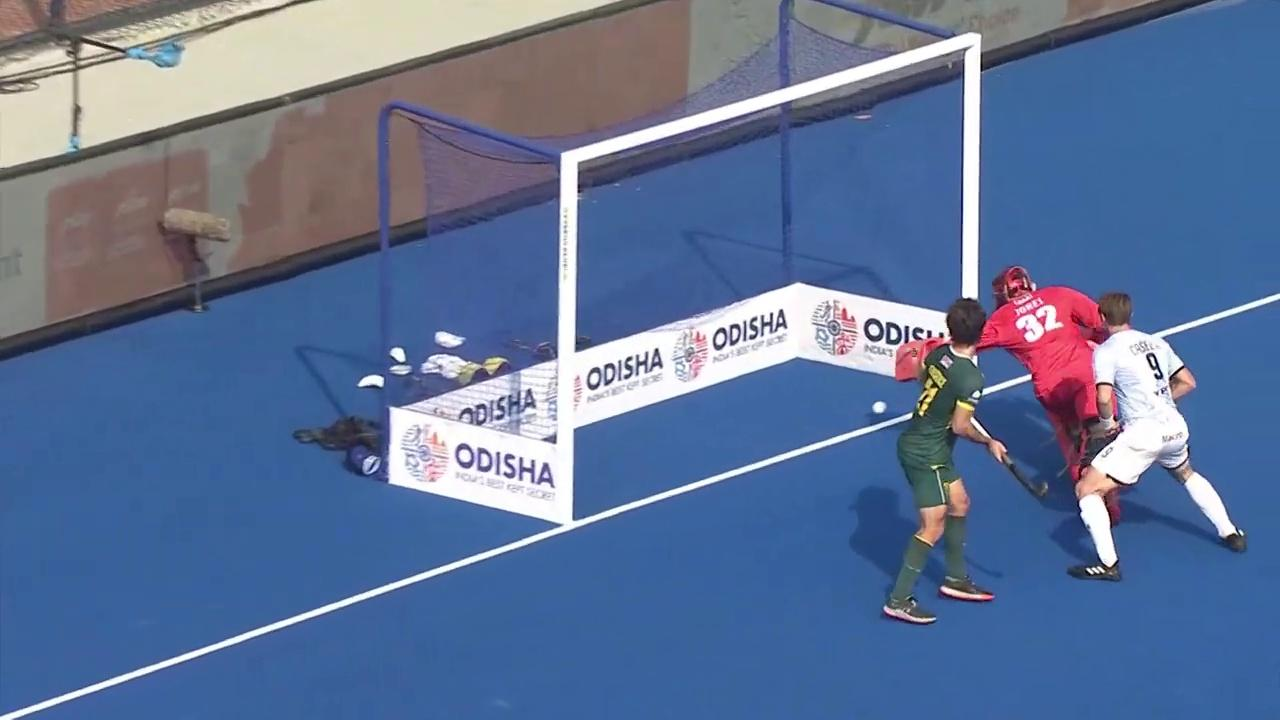ball: (857, 395, 893, 420)
